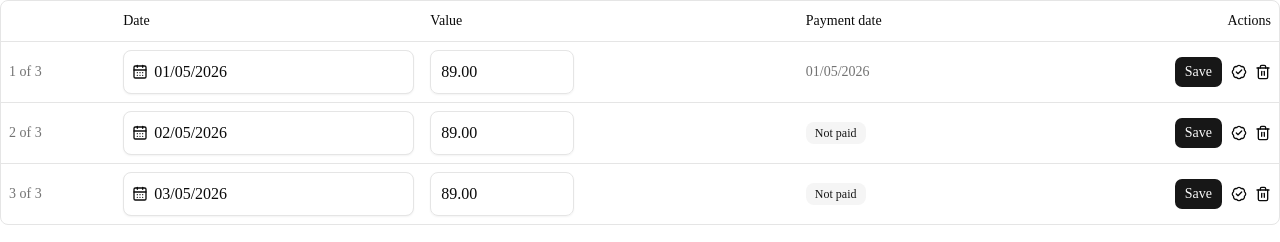
Test: InstallmentOccurrencesTable › keeps each row's saved state separate
Click the button "Save" in the row of "1 of 3". click: (1198, 72)
box: [1174, 56, 1223, 88]
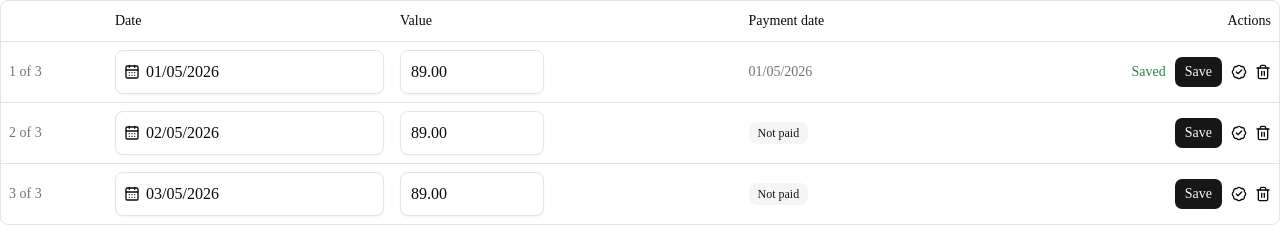
Expected: the text "Saved" is shown, [1132, 62, 1166, 82]
Click the button "Save" in the row of "2 of 3". click: (1198, 132)
box: [1174, 116, 1223, 148]
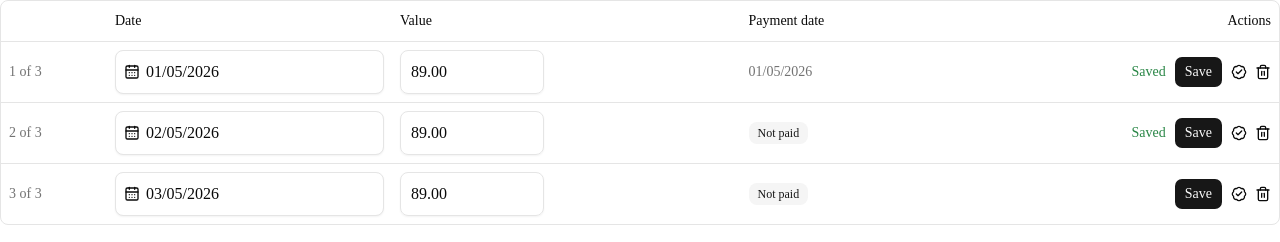
Expected: the text "Saved" is shown 2 times, [1132, 62, 1166, 82]; [1132, 122, 1166, 142]
